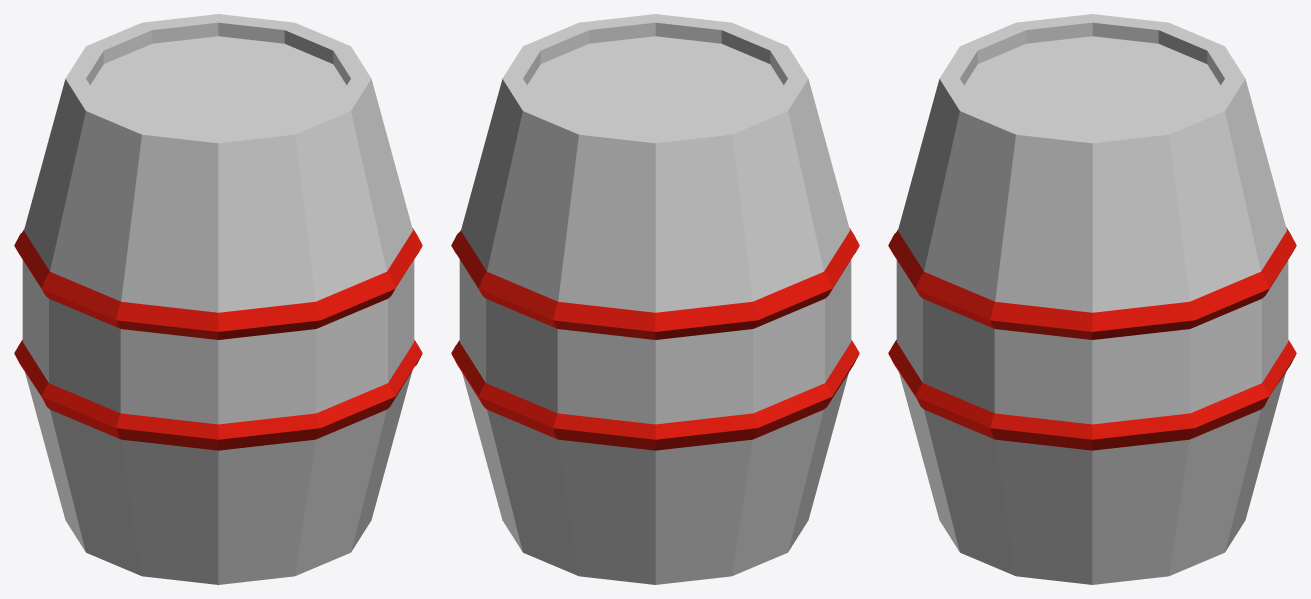
The model's file is barrels.fbx.
3 renders of one model, left to right at view 1: azimuth 30°, elevation 25°; view 2: azimuth 150°, elevation 25°; view 3: azimuth 270°, elevation 25°, orthographic.
Visible parts, largest first — view 1: Ton_alt; view 2: Ton_alt; view 3: Ton_alt.
Part boxes in pixels (box(x1,y1,x2,y2)): Ton_alt: box(14, 14, 422, 584); Ton_alt: box(451, 14, 859, 584); Ton_alt: box(888, 14, 1296, 584).
Bounding box in the file's own units: 61.04 × 72.77 × 61.04.
